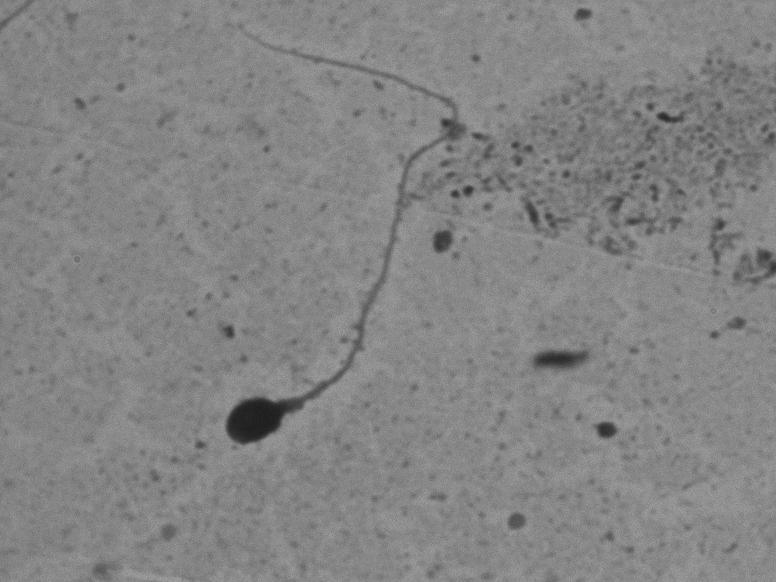Abnormal: (165, 20, 469, 472)
